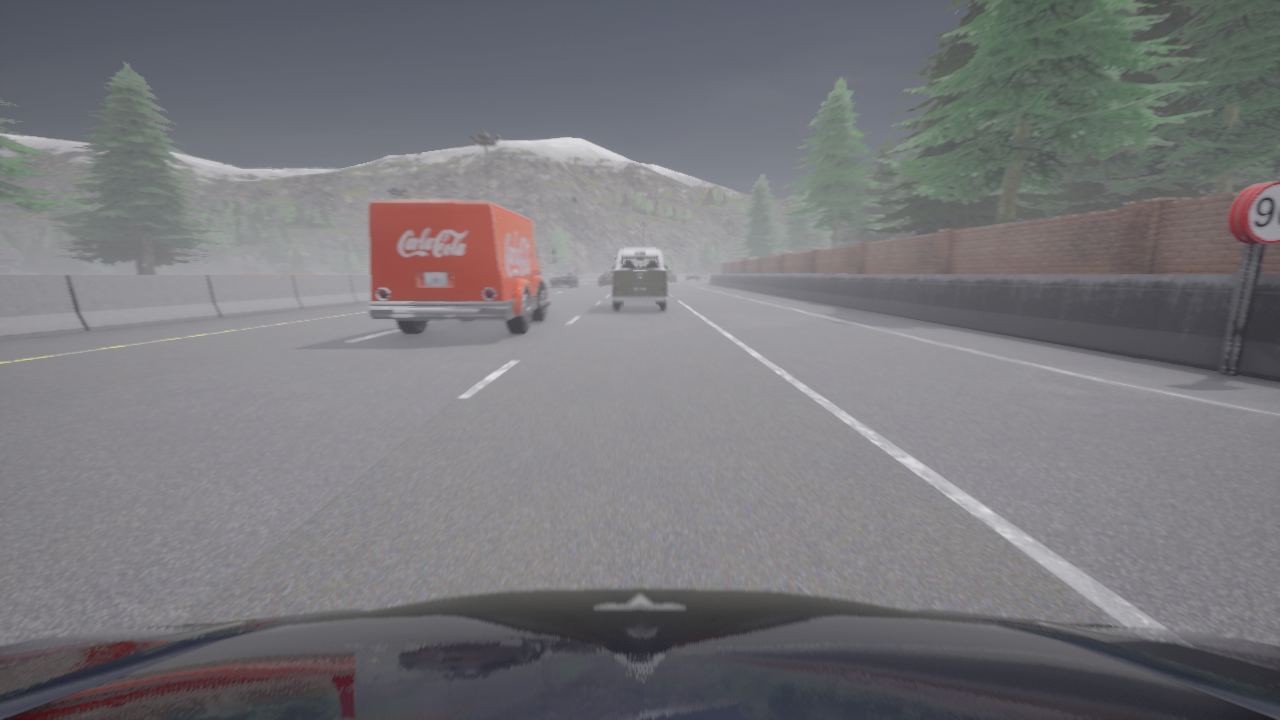cyclist: (0, 588, 1279, 719), (368, 200, 554, 333), (612, 247, 667, 310), (550, 273, 577, 286), (599, 272, 613, 284), (686, 271, 700, 281), (666, 271, 675, 281)
